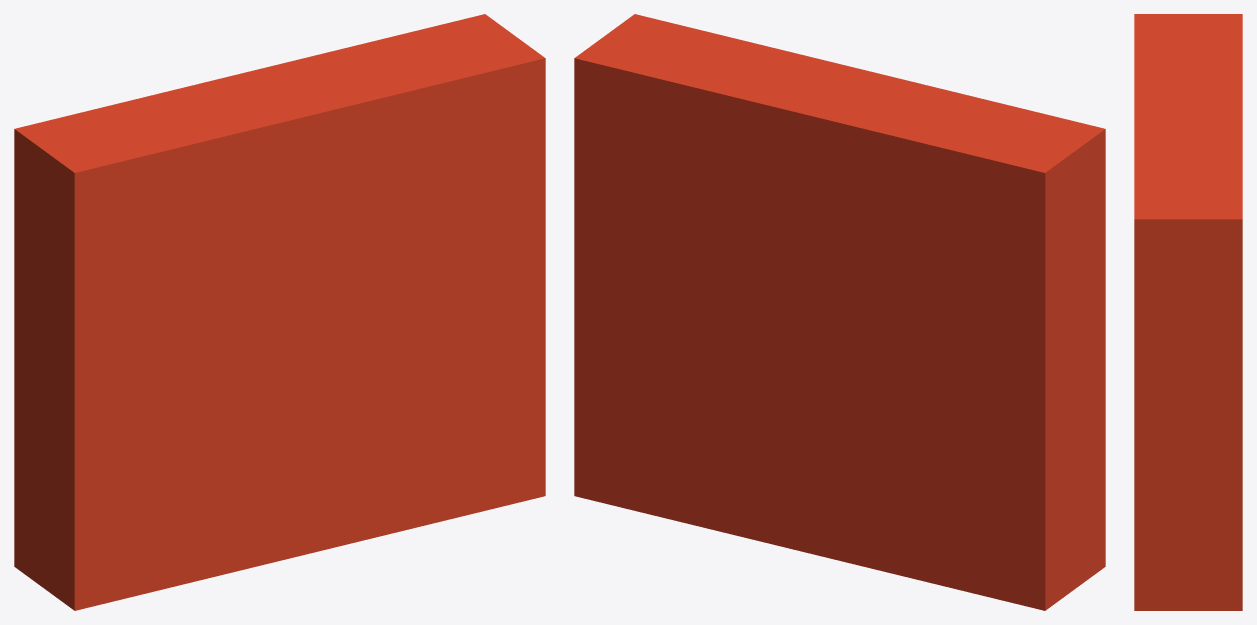
The model's file is Wall_A.fbx.
The picture shows the model from 3 angles, left to right: view 1: azimuth 30°, elevation 25°; view 2: azimuth 150°, elevation 25°; view 3: azimuth 270°, elevation 25°; orthographic projection. The views are drawn at different scales.
Visible parts, largest first — view 1: 0.Wall_A; view 2: 0.Wall_A; view 3: 0.Wall_A.
Boxes of the visible parts, left/top/right/bottom form: 0.Wall_A: left=14, top=14, right=545, bottom=610; 0.Wall_A: left=574, top=14, right=1105, bottom=610; 0.Wall_A: left=1134, top=14, right=1242, bottom=610.
Size of the model in its own units: 4.5 by 4 by 1.
